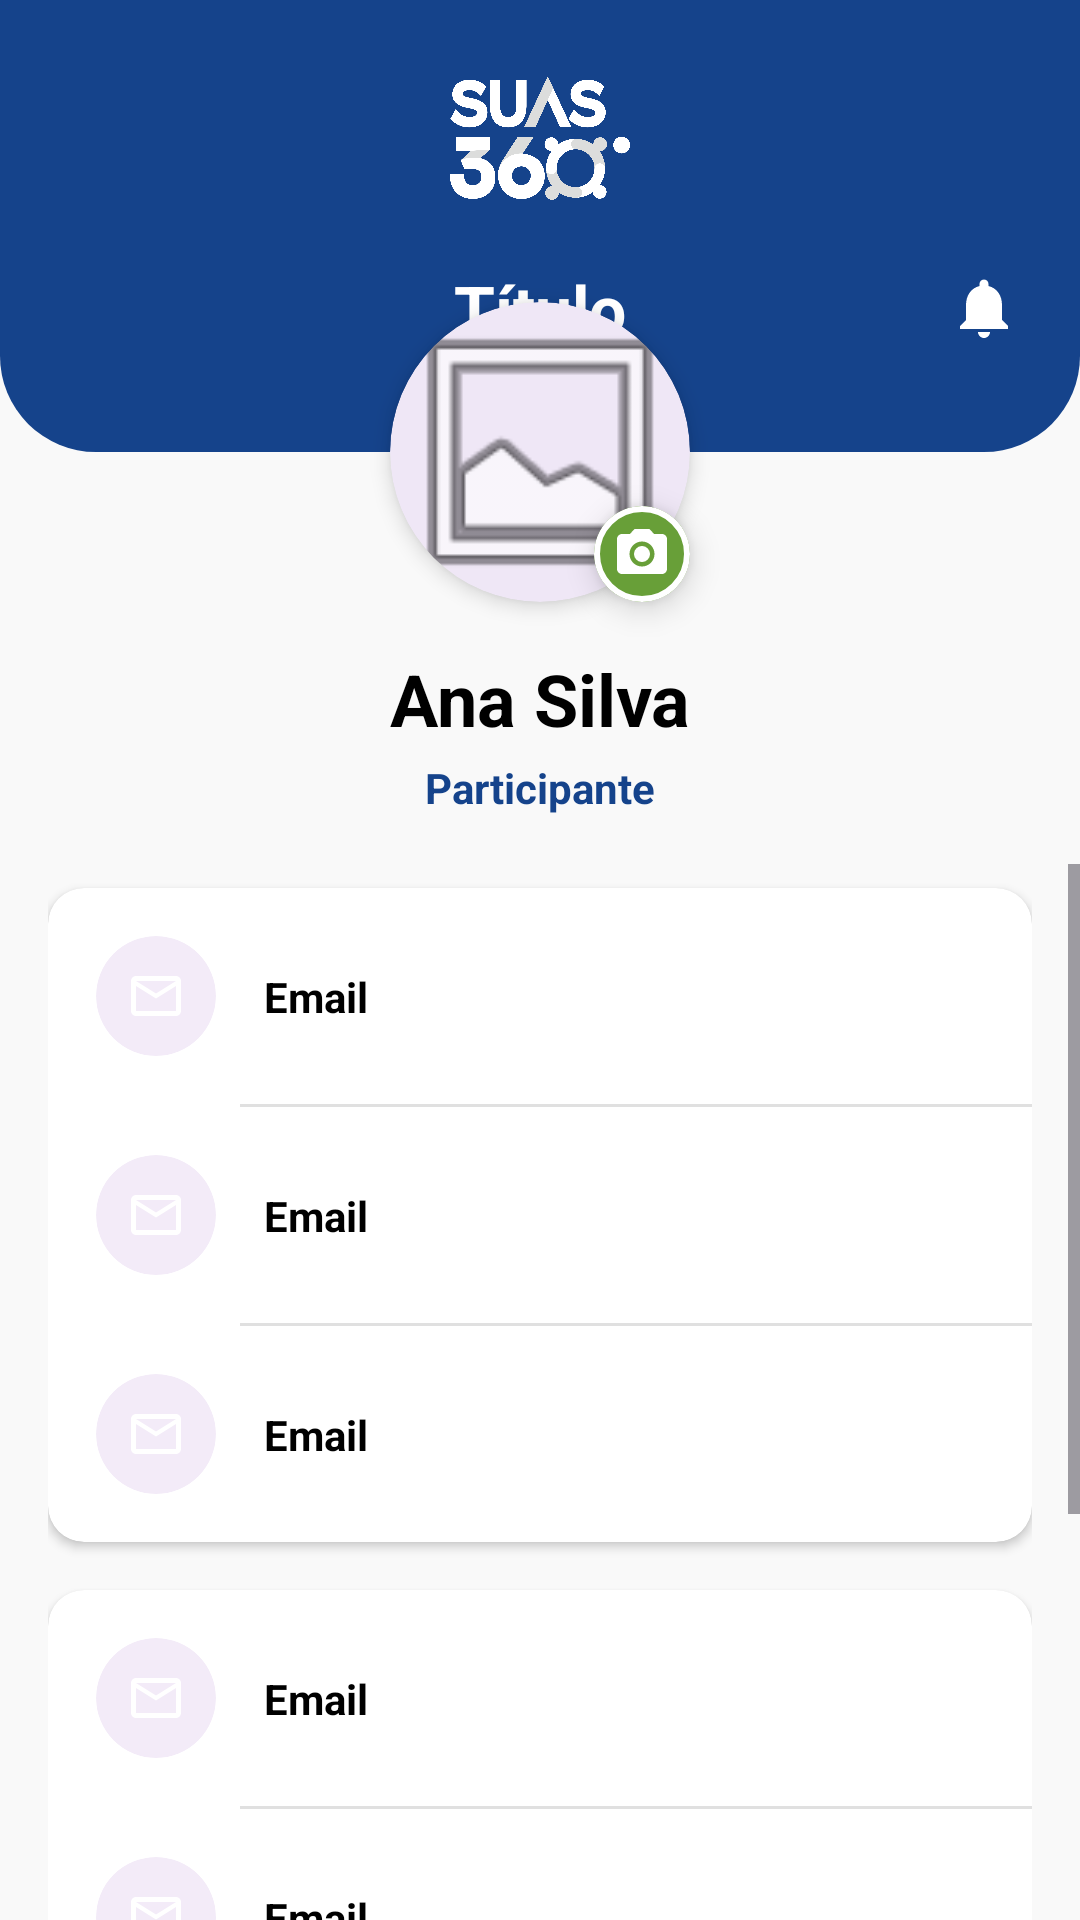

Where to tap for icons on this 1080px×1920px app screen, as (x=x, y=y):
Notificações: (x=984, y=308)
